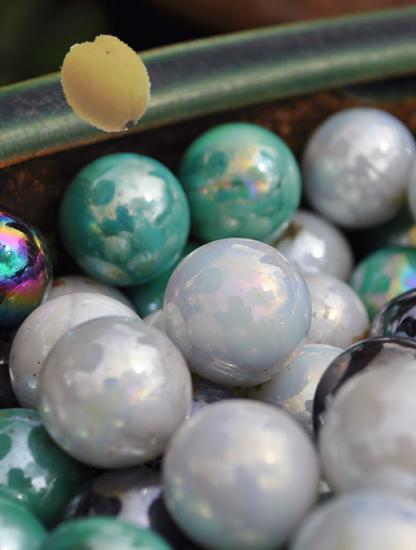Peach: (56, 34, 156, 134)
